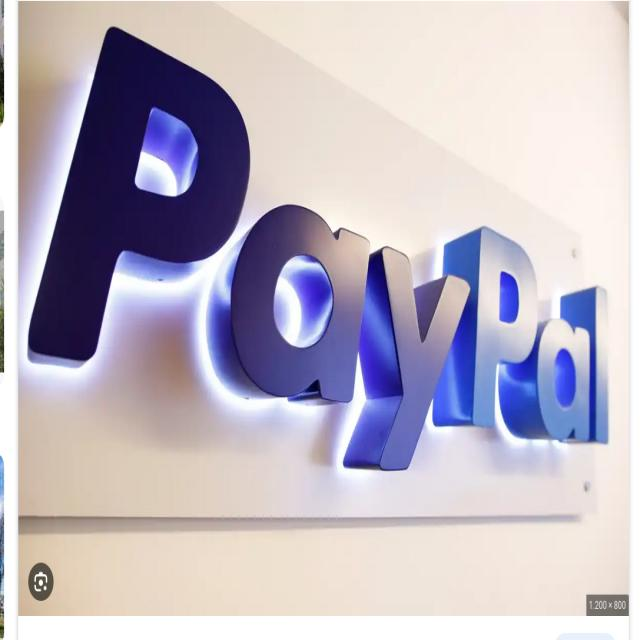paypal_txt: (26, 27, 608, 471)
